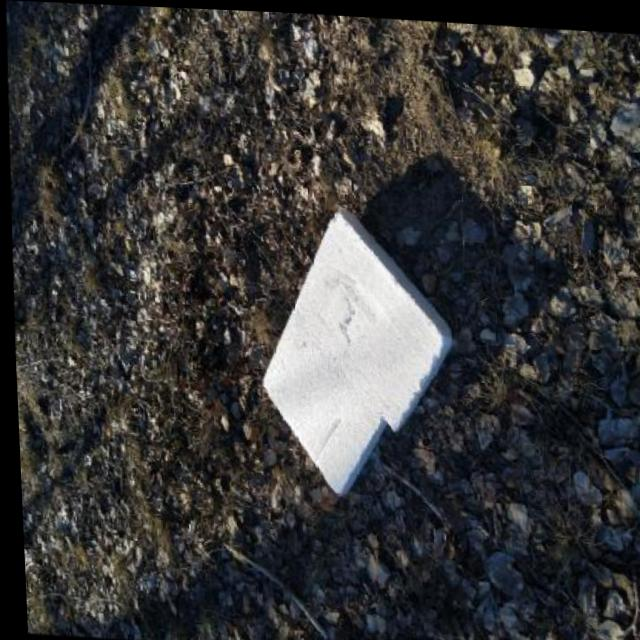foam: (252, 205, 462, 503)
